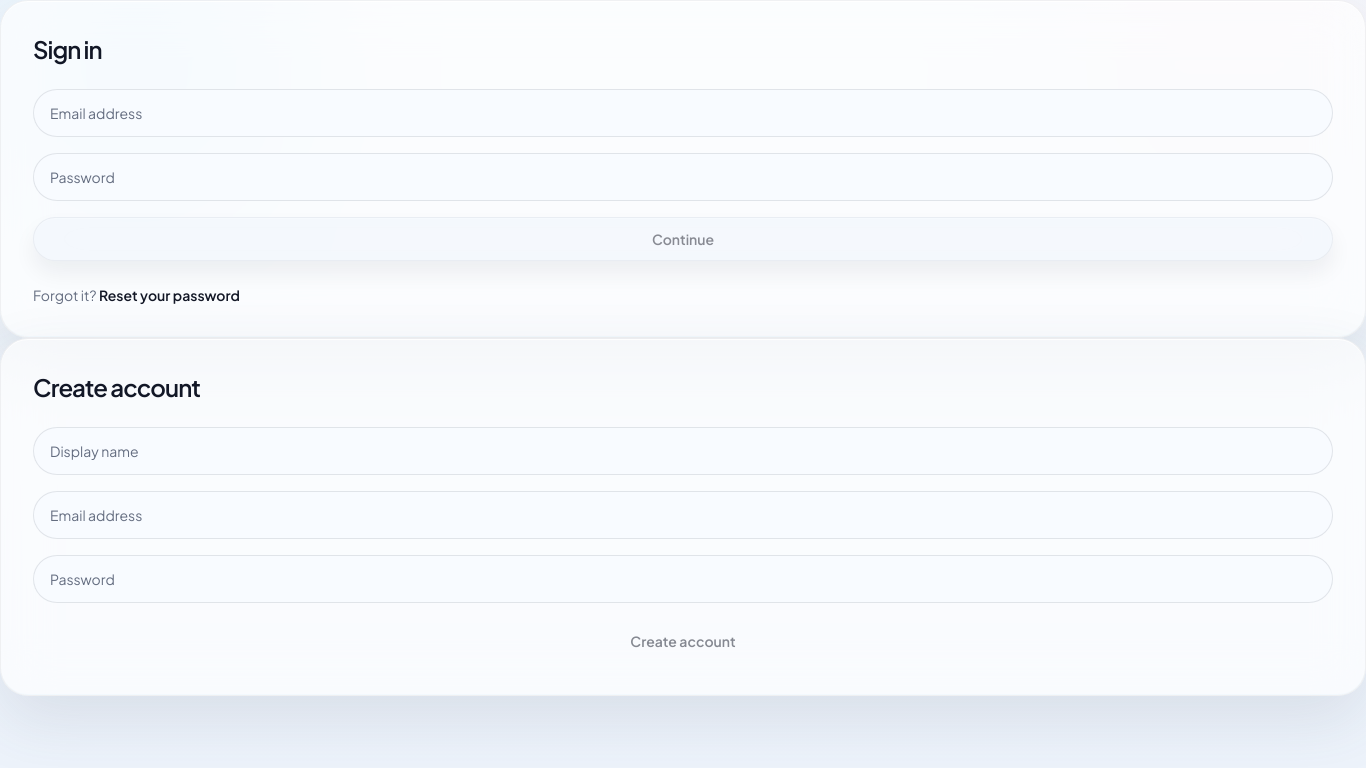
Test: SignInPanels › shows the success message and clears signup fields
Step 1. Type "Cindy" into the field with placeholder "Display name" → (683, 451), box [33, 427, 1333, 475]
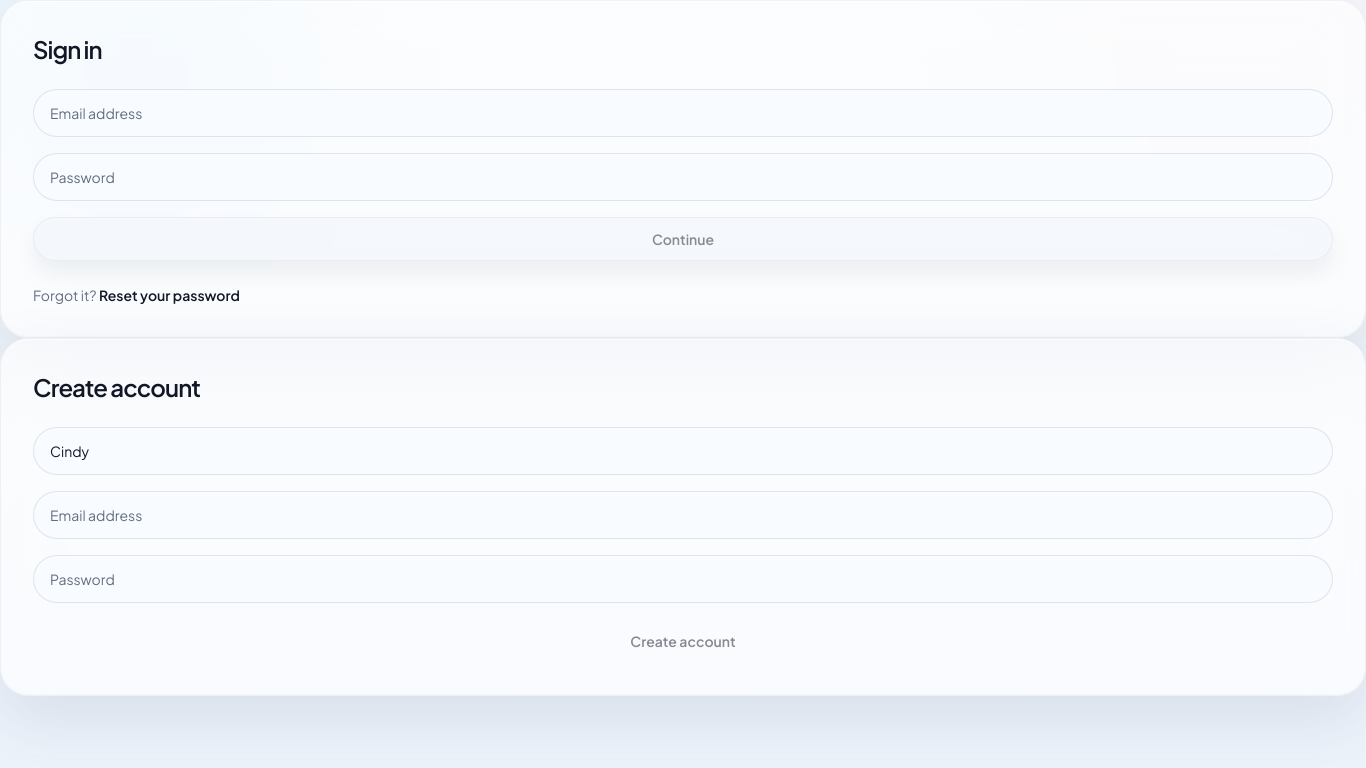
Step 2. Type "new@example.com" into the 2nd field with placeholder "Email address" → (683, 515), box [33, 491, 1333, 539]
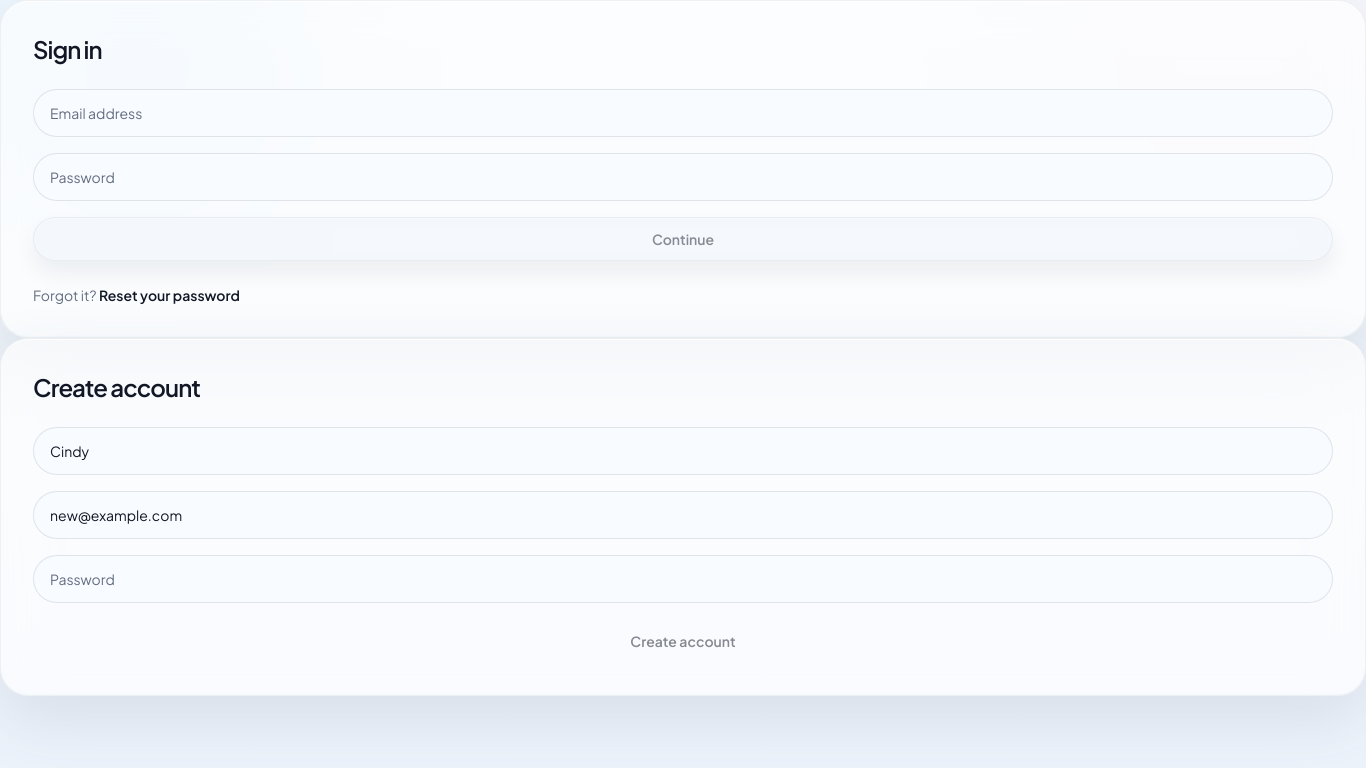
Step 3. Type "StrongPassword123" into the 2nd password field with placeholder "Password" → (683, 579), box [33, 555, 1333, 603]
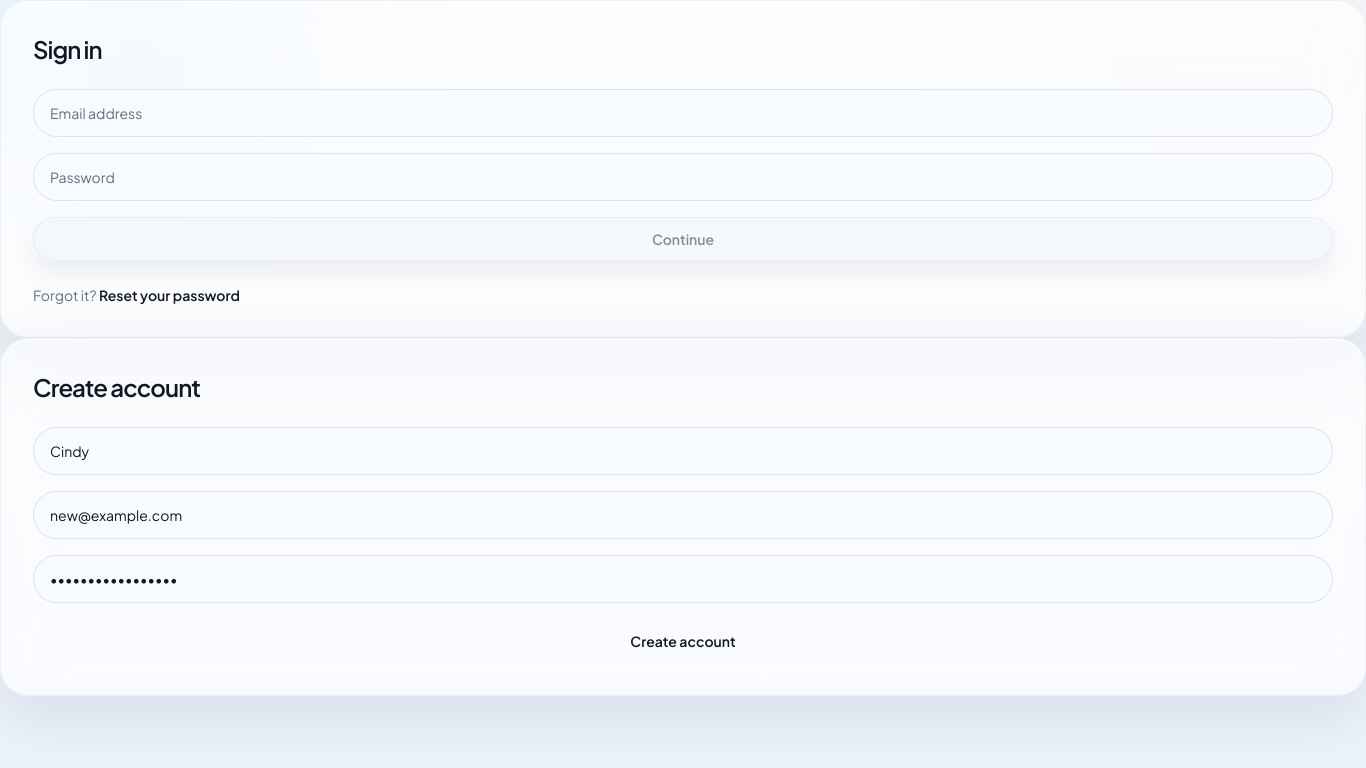
Step 4. Click the button "Create account" → (683, 641), box [33, 619, 1333, 663]
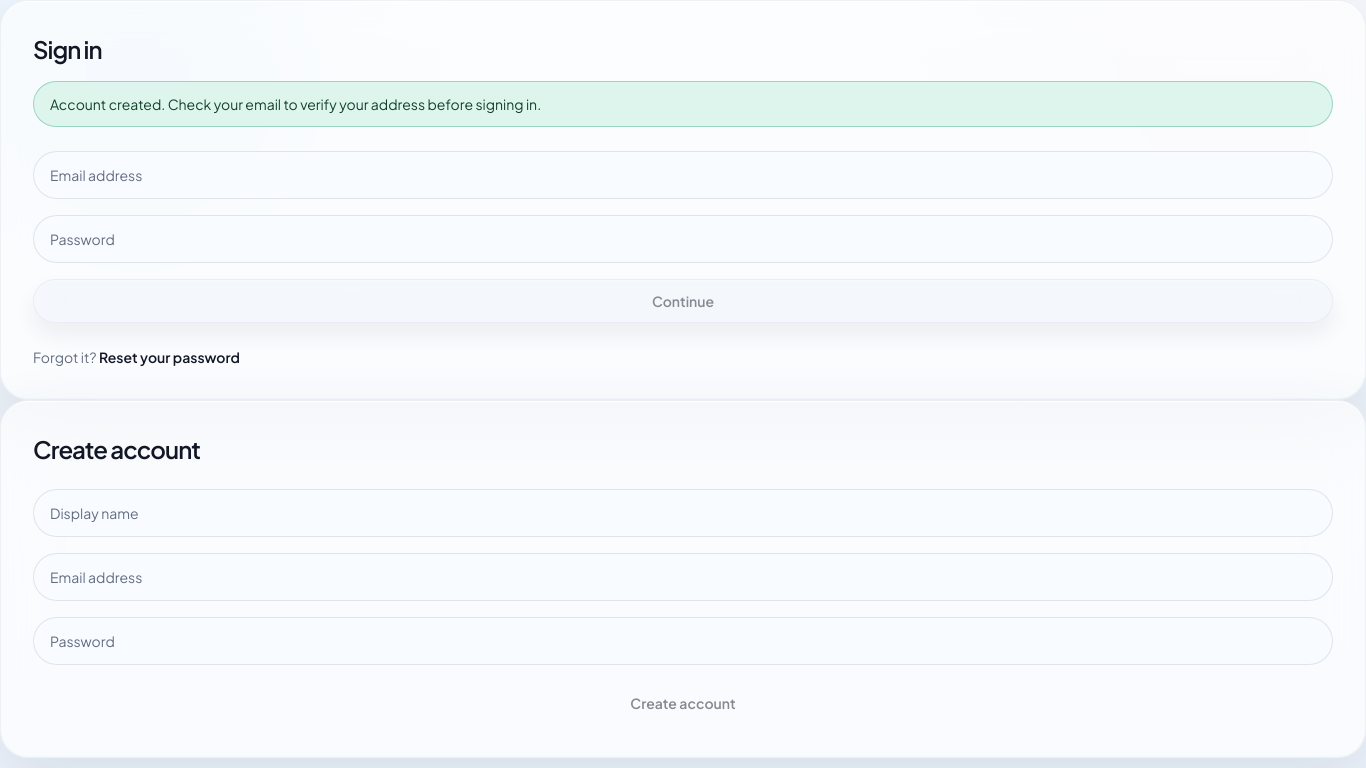
Now the text "Account created. Check your email" is shown, box [50, 95, 541, 113]
Now the field with placeholder "Display name" is empty, box [33, 489, 1333, 537]
Now the 2nd field with placeholder "Email address" is empty, box [33, 553, 1333, 601]
